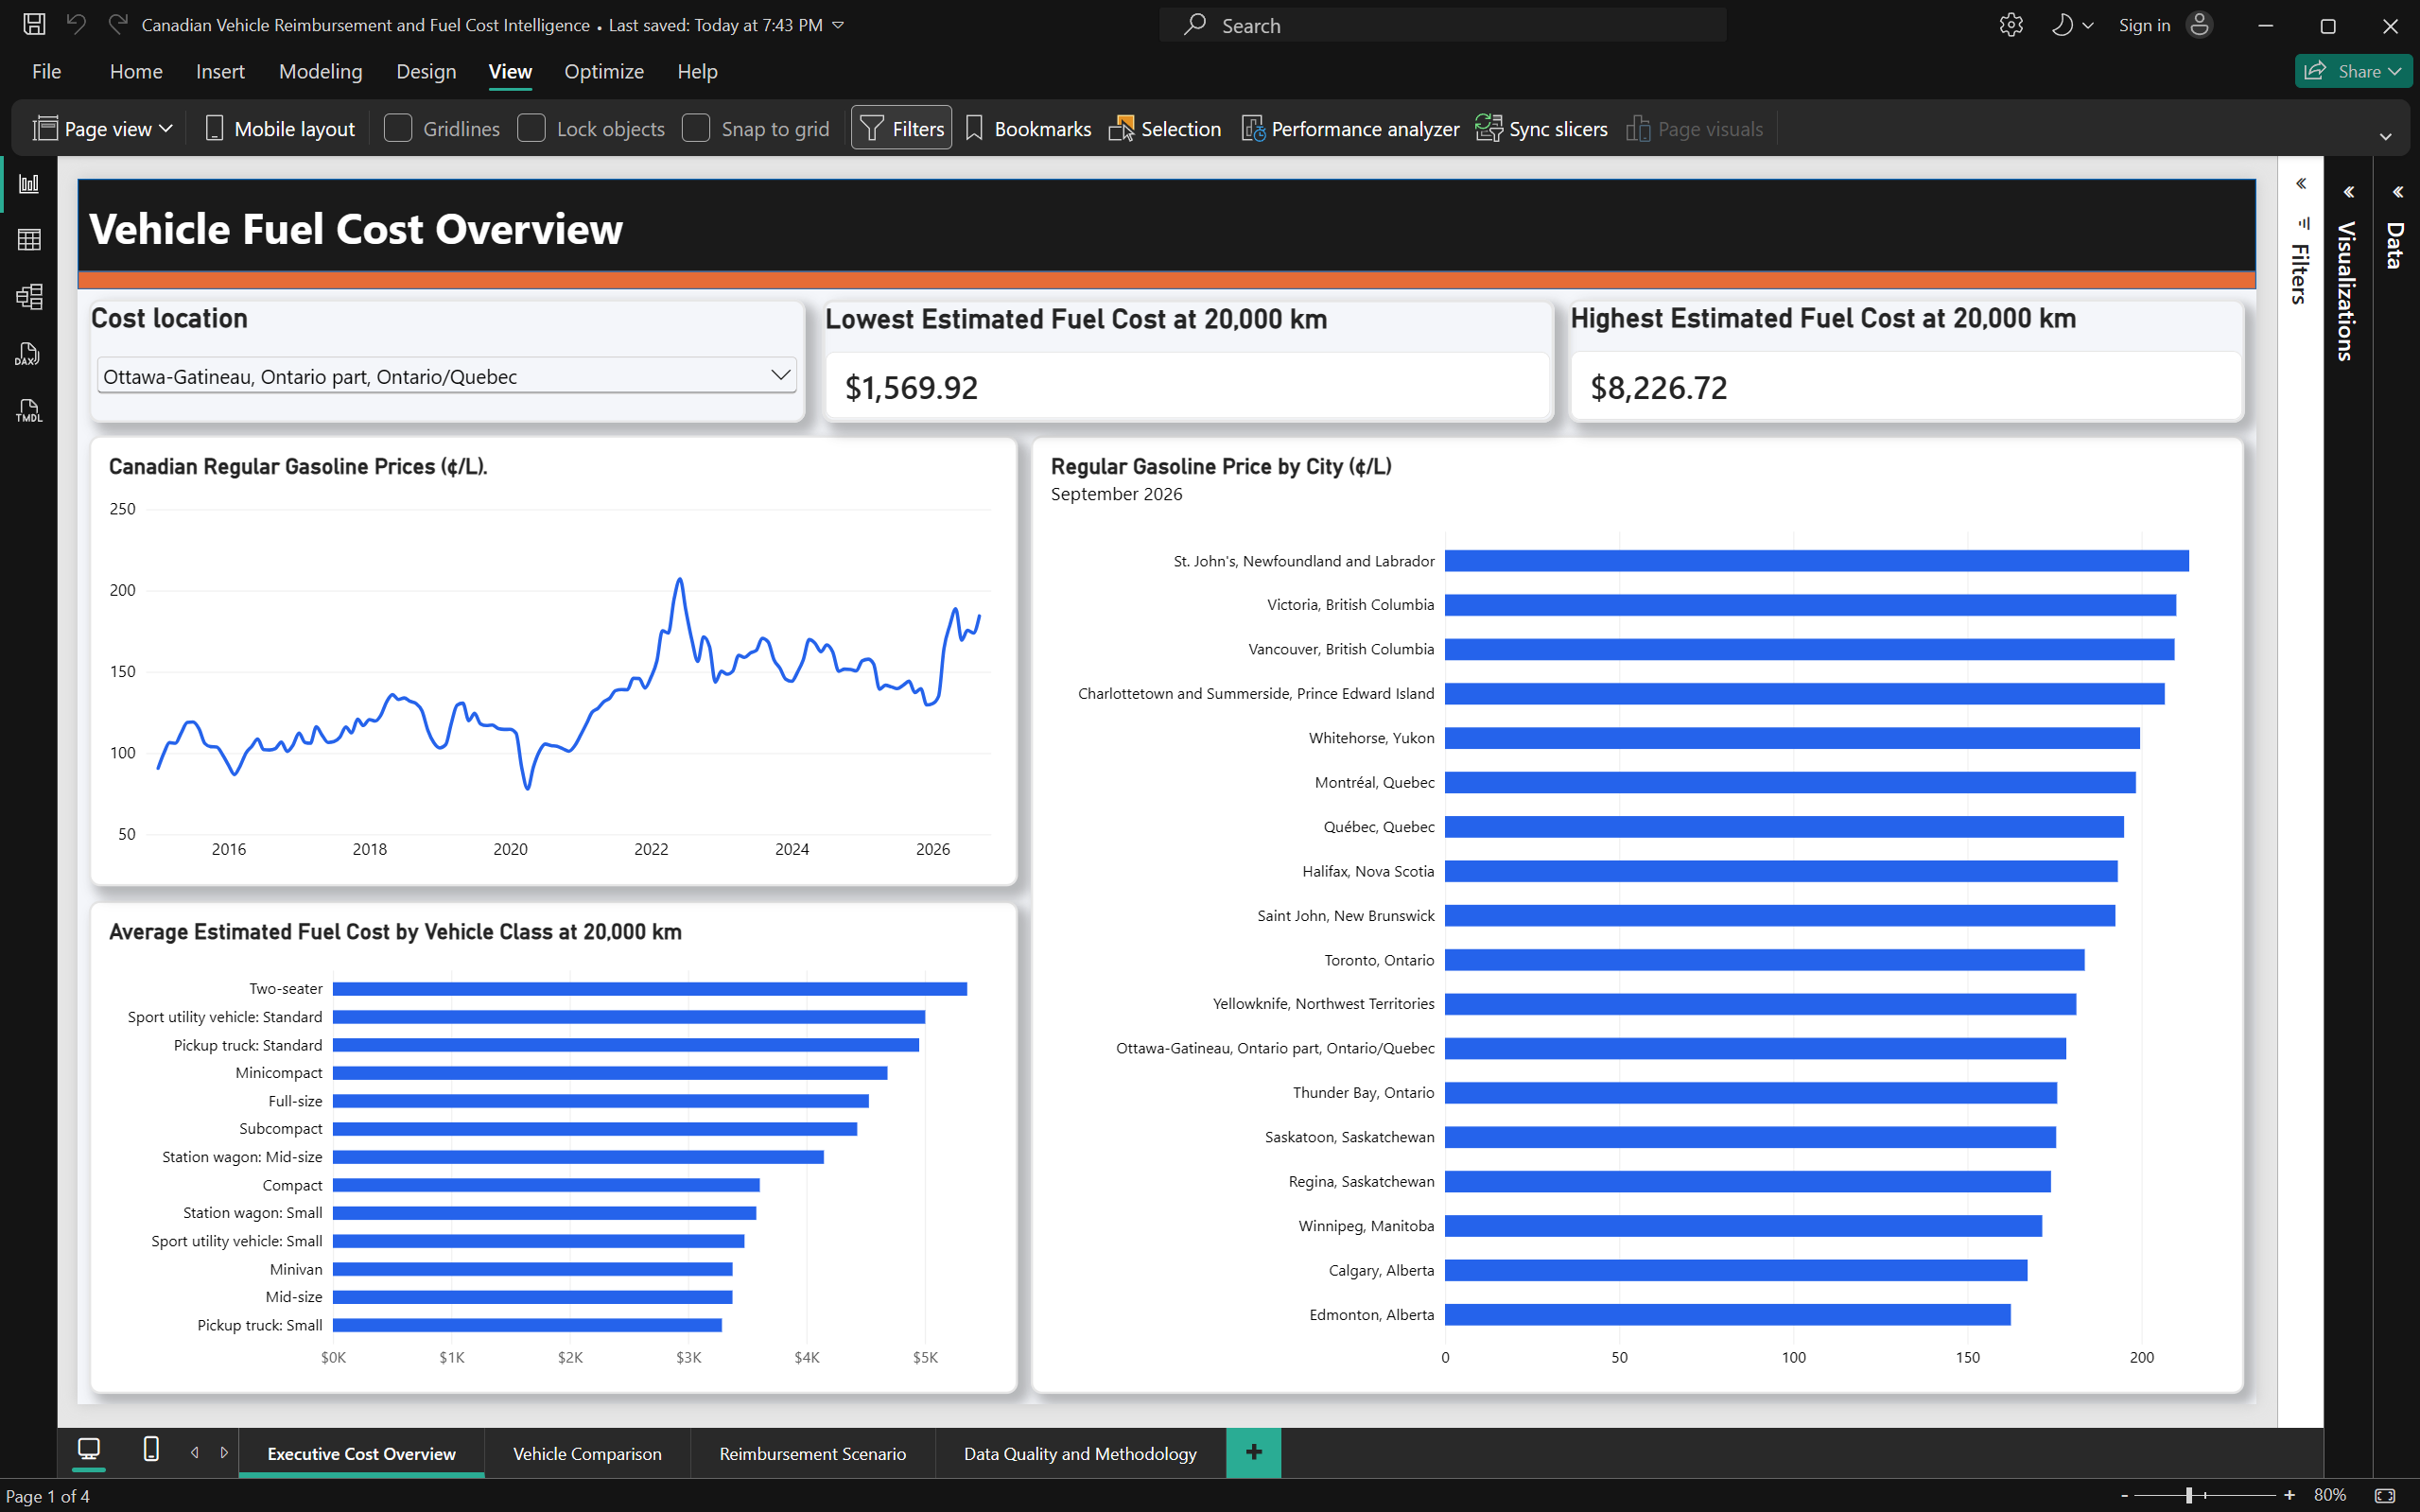

The page's visual inventory and layout, read from the dashboard file:
{"tool":"powerbi","page":{"name":"Executive Cost Overview","canvas":[1920,1080],"ordinal":0},"visuals":[{"type":"slicer","title":"Cost location","fields":{"Values":["Vehicle Fuel Cost Scenarios.GEO"]},"box":[10,106.2,631.2,108.8],"z":0},{"type":"clusteredBarChart","title":"Average Estimated Fuel Cost by Vehicle Class at 20,000 km","fields":{"Category":["Vehicle Fuel Cost Scenarios.Vehicle class"],"Y":["Avg(Vehicle Fuel Cost Scenarios.Fuel Cost at 20,000 km (CAD))"]},"box":[9.5,636.1,818.8,434.4],"z":1000},{"type":"lineChart","title":"Canadian Regular Gasoline Prices (¢/L).","fields":{"Category":["Monthly Fuel Prices.REF_DATE"],"Y":["Avg(Monthly Fuel Prices.VALUE)"]},"box":[10,226.2,818.8,397.5],"z":2000},{"type":"clusteredBarChart","title":"Regular Gasoline Price by City (¢/L)","fields":{"Category":["Latest Fuel Prices.GEO"],"Y":["Avg(Latest Fuel Prices.VALUE)"]},"box":[840.5,226,1069.2,844.5],"z":3000},{"type":"cardVisual","title":"Lowest Estimated Fuel Cost at 20,000 km","fields":{"Data":["Min(Vehicle Fuel Cost Scenarios.Fuel Cost at 20,000 km (CAD))"]},"box":[656.2,106.2,645,108.8],"z":4000},{"type":"cardVisual","title":"Highest Estimated Fuel Cost at 20,000 km","fields":{"Data":["Max(Vehicle Fuel Cost Scenarios.Fuel Cost at 20,000 km (CAD))"]},"box":[1313.8,106.2,596.2,108.8],"z":5000},{"type":"shape","box":[0,0,1920,97.5],"z":6000},{"type":"shape","box":[0,81.2,1920,16.2],"z":7000},{"type":"textbox","box":[9.5,17.6,556.2,60.9],"z":8000}]}

Visuals, with their boxes on the page's 1920x1080 design canvas (x1, y1, x2, y2). These are canvas units, not pixel positions in the 2420x1512 screenshot, which may show the page scaled, cropped or inside an application window:
"Cost location" slicer: 10 106 641 215
"Average Estimated Fuel Cost by Vehicle Class at 20,000 km" clusteredBarChart: 10 636 828 1070
"Canadian Regular Gasoline Prices (¢/L)." lineChart: 10 226 829 624
"Regular Gasoline Price by City (¢/L)" clusteredBarChart: 840 226 1910 1070
"Lowest Estimated Fuel Cost at 20,000 km" cardVisual: 656 106 1301 215
"Highest Estimated Fuel Cost at 20,000 km" cardVisual: 1314 106 1910 215
shape: 0 0 1920 98
shape: 0 81 1920 97
textbox: 10 18 566 78
